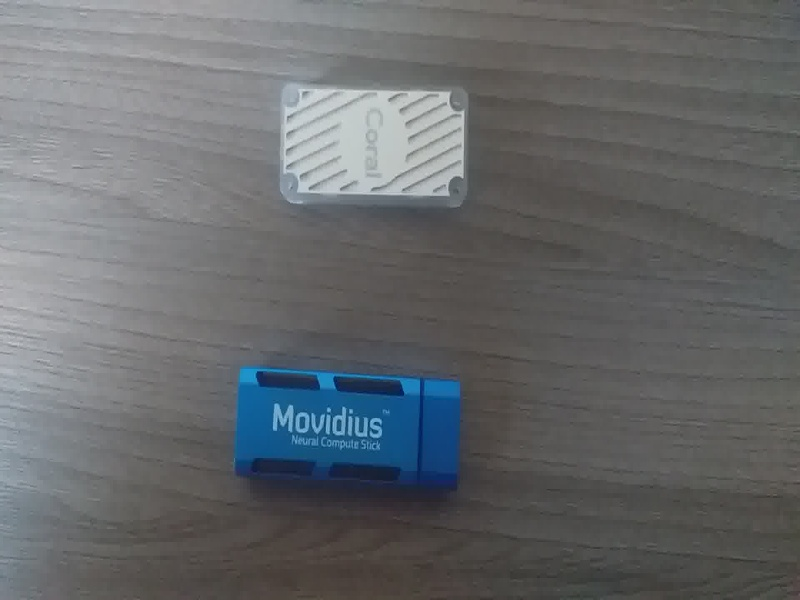coral: (268, 77, 491, 217)
movidius: (231, 355, 470, 501)
